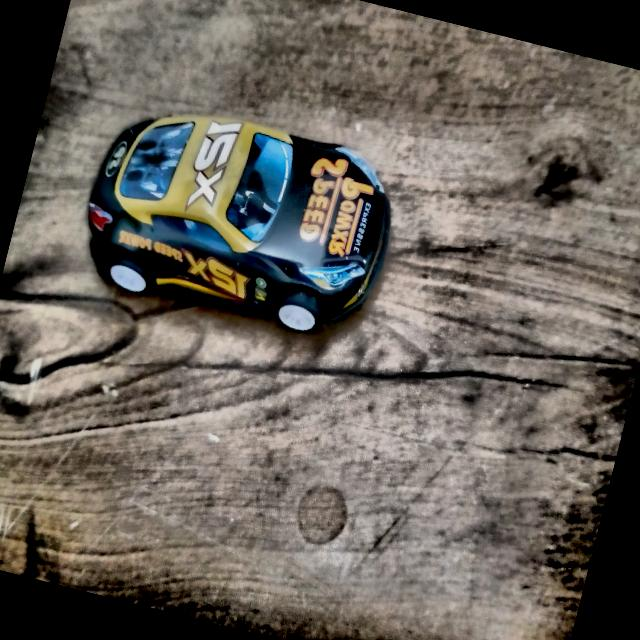Car: (61, 76, 418, 366)
